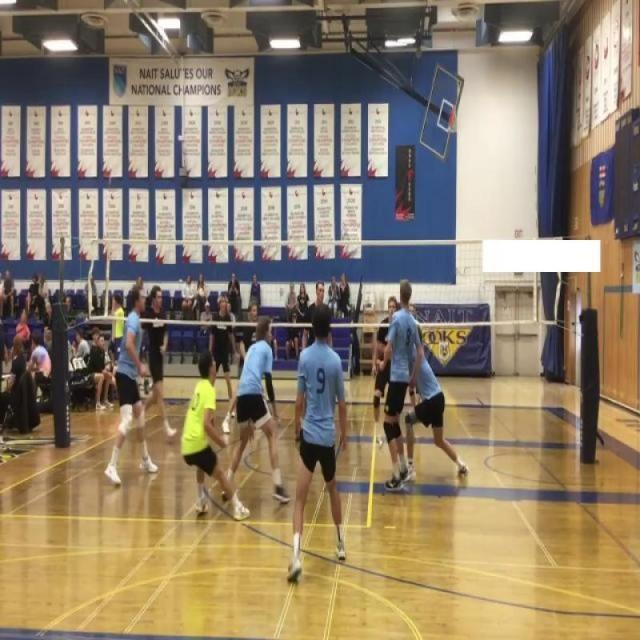volleyball: (373, 288, 386, 313)
